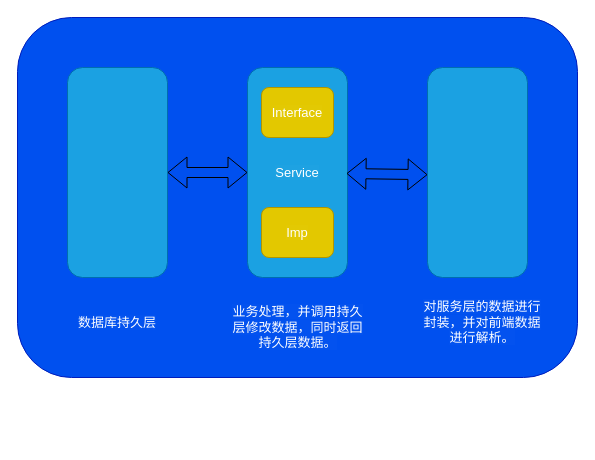
The diagram is 595 pixels wide and 460 high, and some of its shapes have lost their labels. Each missing label, with the centre of its shape:
Control: the point at 477,172
Mapper: the point at 117,172
